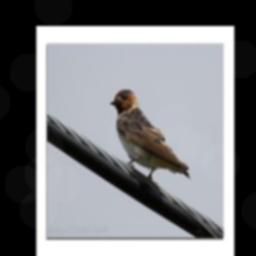Swallow: (110, 87, 193, 185)
